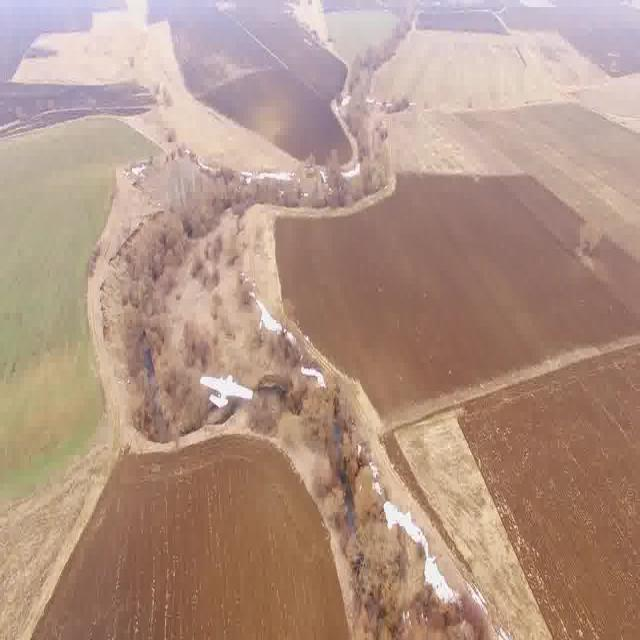iha: (218, 392, 234, 407)
